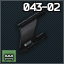Pilad 043-02 dovetail mount: (0, 0, 64, 64)
